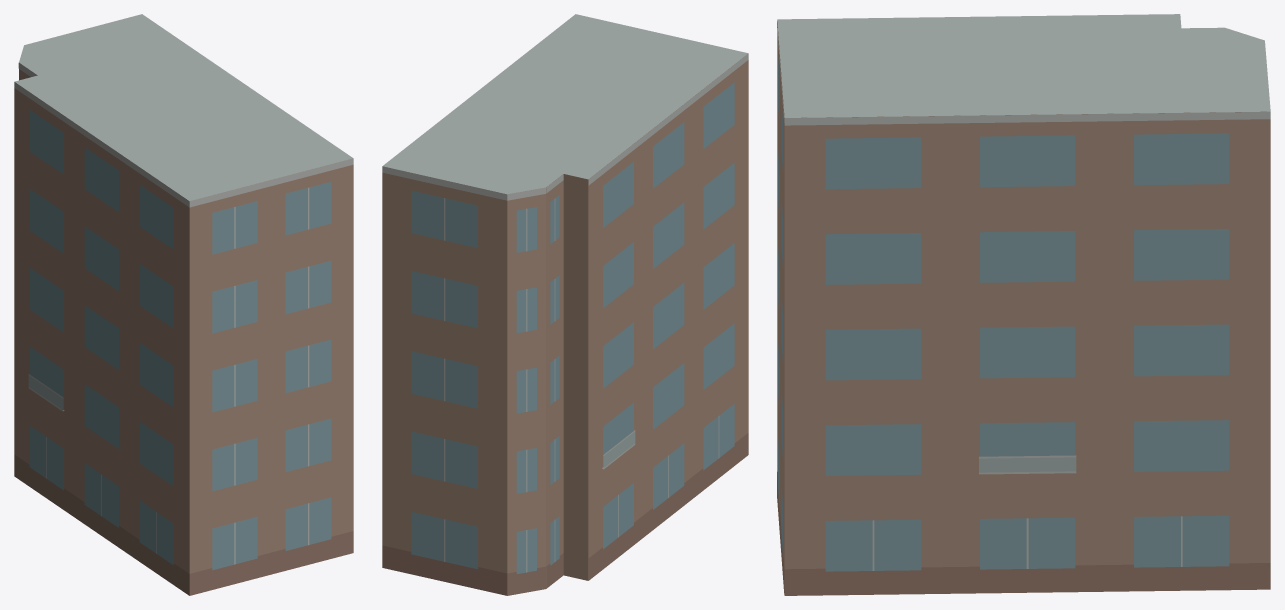
Rendered from survey-upis-33034584.glb.
3 renders of one model, left to right at view 1: azimuth 30°, elevation 25°; view 2: azimuth 150°, elevation 25°; view 3: azimuth 270°, elevation 25°, orthographic. The views are drawn at different scales.
Visible parts, largest first — view 1: survey-upis-33034584.tmp; view 2: survey-upis-33034584.tmp; view 3: survey-upis-33034584.tmp.
Boxes of the visible parts, <box> form: survey-upis-33034584.tmp: <box>14,14,353,595</box>; survey-upis-33034584.tmp: <box>382,14,748,595</box>; survey-upis-33034584.tmp: <box>777,14,1270,595</box>.
Size of the model in its own units: 7.2 by 15.4 by 14.42.
